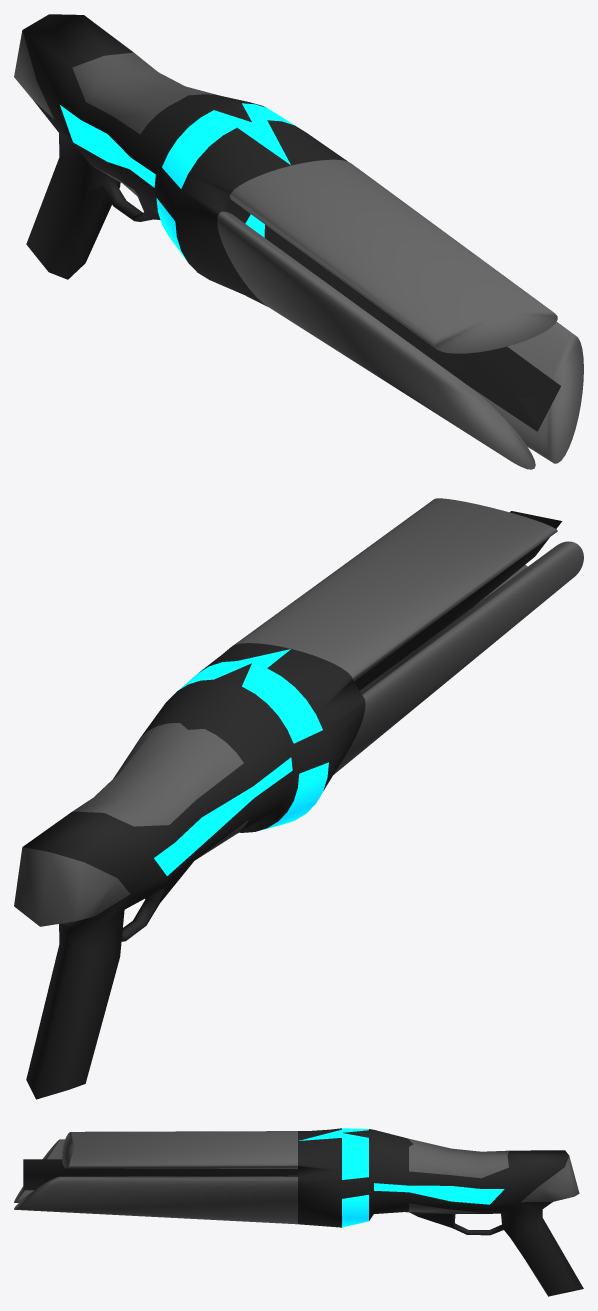
The model's file is Gewehr1_LängererGriff.fbx.
3 views of the same model, one above another, from view 1: azimuth 30°, elevation 25°; view 2: azimuth 150°, elevation 25°; view 3: azimuth 270°, elevation 25° (orthographic). The views are drawn at different scales.
Visible parts, largest first — view 1: Cylinder; view 2: Cylinder; view 3: Cylinder.
Boxes of the visible parts, x1,y1,x2,y2 form: Cylinder: (14,14,583,469); Cylinder: (14,498,583,1099); Cylinder: (14,1128,583,1296).
Size of the model in its own units: 9.97 by 18.12 by 57.16.
